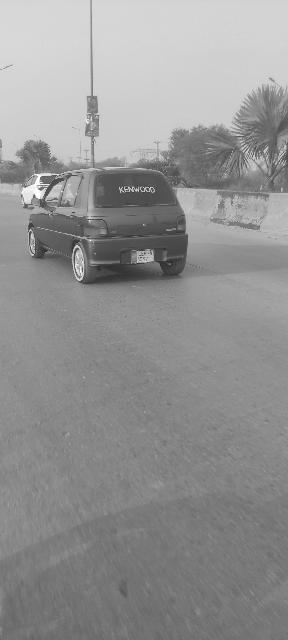Number: (136, 251, 148, 263)
